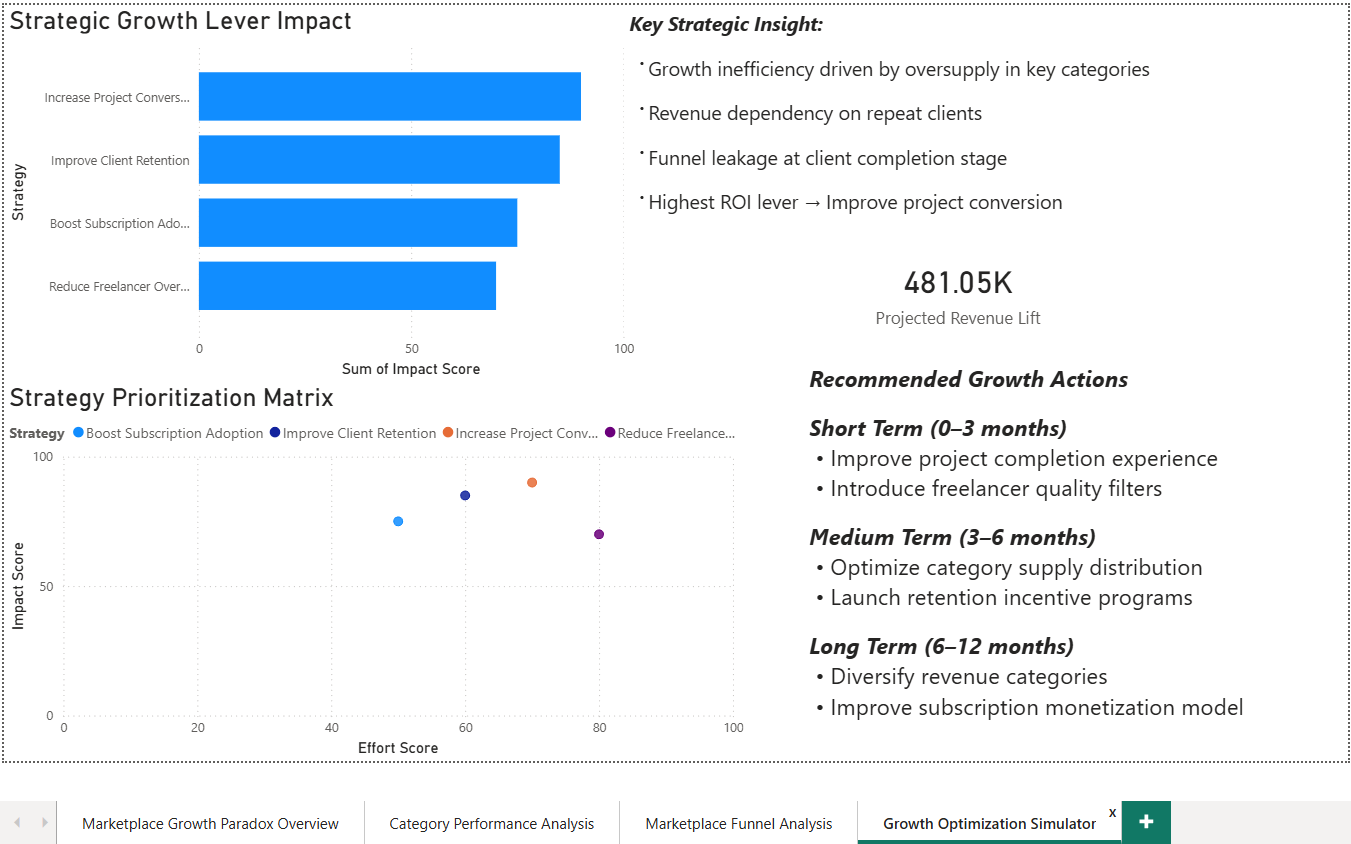

The dashboard page shown, as its layout file describes it:
{"tool":"powerbi","page":{"name":"Growth Optimization Simulator","canvas":[1280,720],"ordinal":3},"visuals":[{"type":"clusteredBarChart","title":"Strategic Growth Lever Impact","fields":{"Category":["Strategy Impact.Strategy"],"Y":["Sum(Strategy Impact.Impact Score)"]},"box":[0,0,605.1,359.5],"z":0},{"type":"card","fields":{"Values":["bids.Projected Revenue Lift"]},"box":[590.1,234.6,636.7,78.2],"z":1000},{"type":"textbox","box":[590.1,0,605.1,234.6],"z":2000},{"type":"scatterChart","title":"Strategy Prioritization Matrix","fields":{"X":["Strategy Impact.Effort Score"],"Y":["Strategy Impact.Impact Score"],"Series":["Strategy Impact.Strategy"]},"box":[0,359.5,709.4,360.9],"z":3000},{"type":"textbox","box":[761.6,336.2,518.7,384.2],"z":4000}]}

Visuals, with their boxes on the page's 1280x720 design canvas (x1, y1, x2, y2). These are canvas units, not pixel positions in the 1351x844 screenshot, which may show the page scaled, cropped or inside an application window:
"Strategic Growth Lever Impact" clusteredBarChart: (left=0, top=0, right=605, bottom=360)
card - bids.Projected Revenue Lift: (left=590, top=235, right=1227, bottom=313)
textbox: (left=590, top=0, right=1195, bottom=235)
"Strategy Prioritization Matrix" scatterChart: (left=0, top=360, right=709, bottom=720)
textbox: (left=762, top=336, right=1280, bottom=720)
